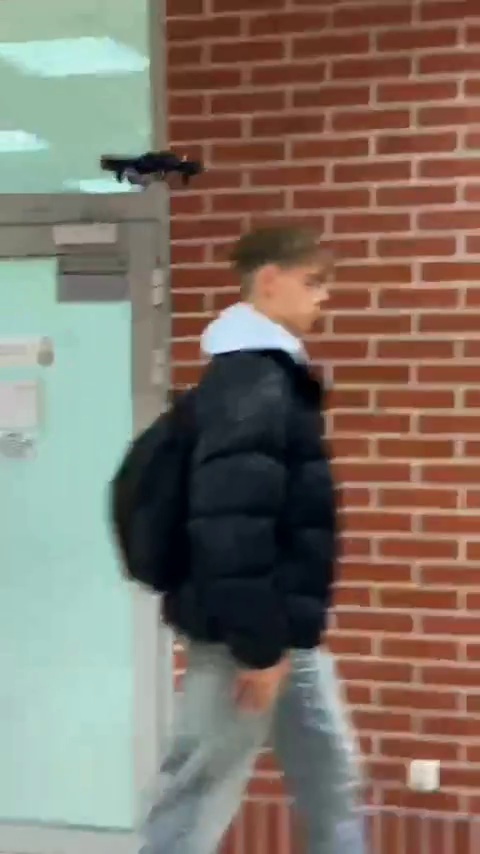drone: (99, 148, 198, 183)
no vest: (86, 217, 318, 842)
